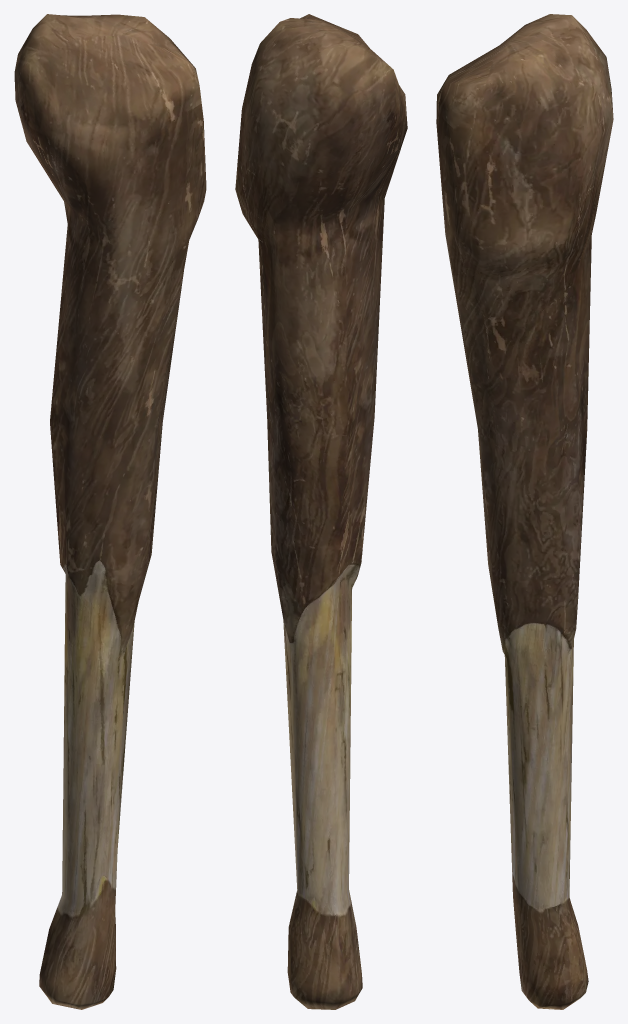
3 views of the same model, side by side, from view 1: azimuth 30°, elevation 25°; view 2: azimuth 150°, elevation 25°; view 3: azimuth 270°, elevation 25° (orthographic).
Parts seen in each view (by area): view 1: SM_Club_Wood_1H_01_LOD0; view 2: SM_Club_Wood_1H_01_LOD0; view 3: SM_Club_Wood_1H_01_LOD0.
Part boxes in pixels (x1,y1,x2,y2): SM_Club_Wood_1H_01_LOD0: (14,14,206,1009); SM_Club_Wood_1H_01_LOD0: (235,14,407,1009); SM_Club_Wood_1H_01_LOD0: (436,14,613,1009).
Size of the model in its own units: 0.1672 by 0.9823 by 0.1618.
Materials: 1 (1 with a texture image).
